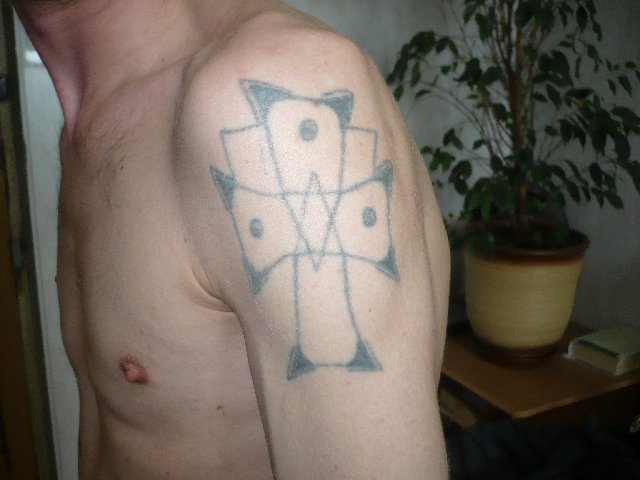tatu9_krest: (207, 74, 425, 393)
